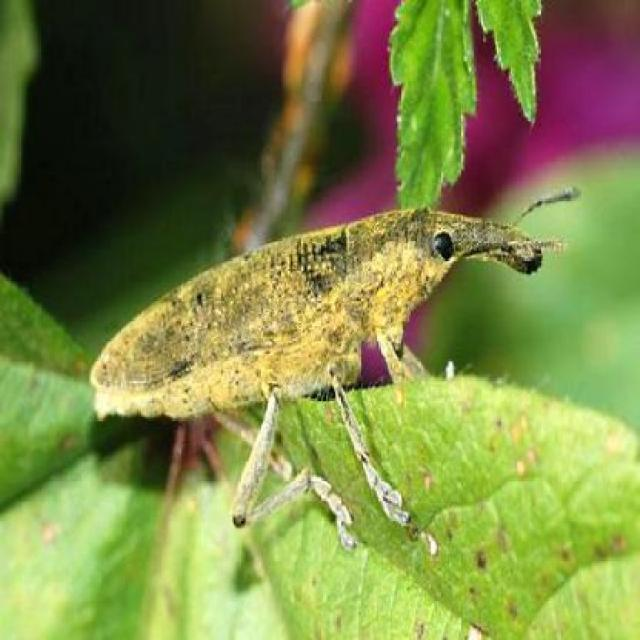rice-bug: (92, 204, 546, 559)
